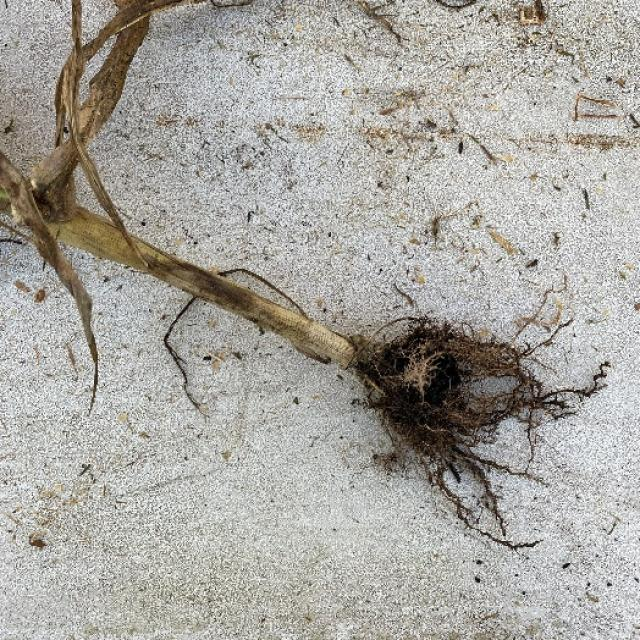organik: (11, 1, 546, 515)
